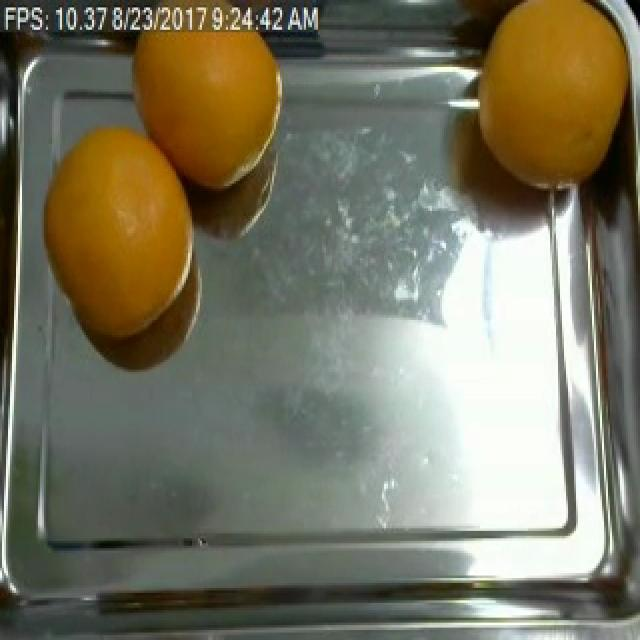Fruit: (100, 10, 286, 211)
